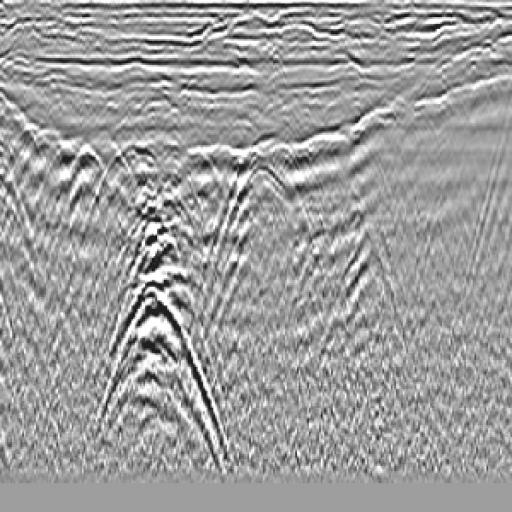metalic: (205, 123, 329, 272)
